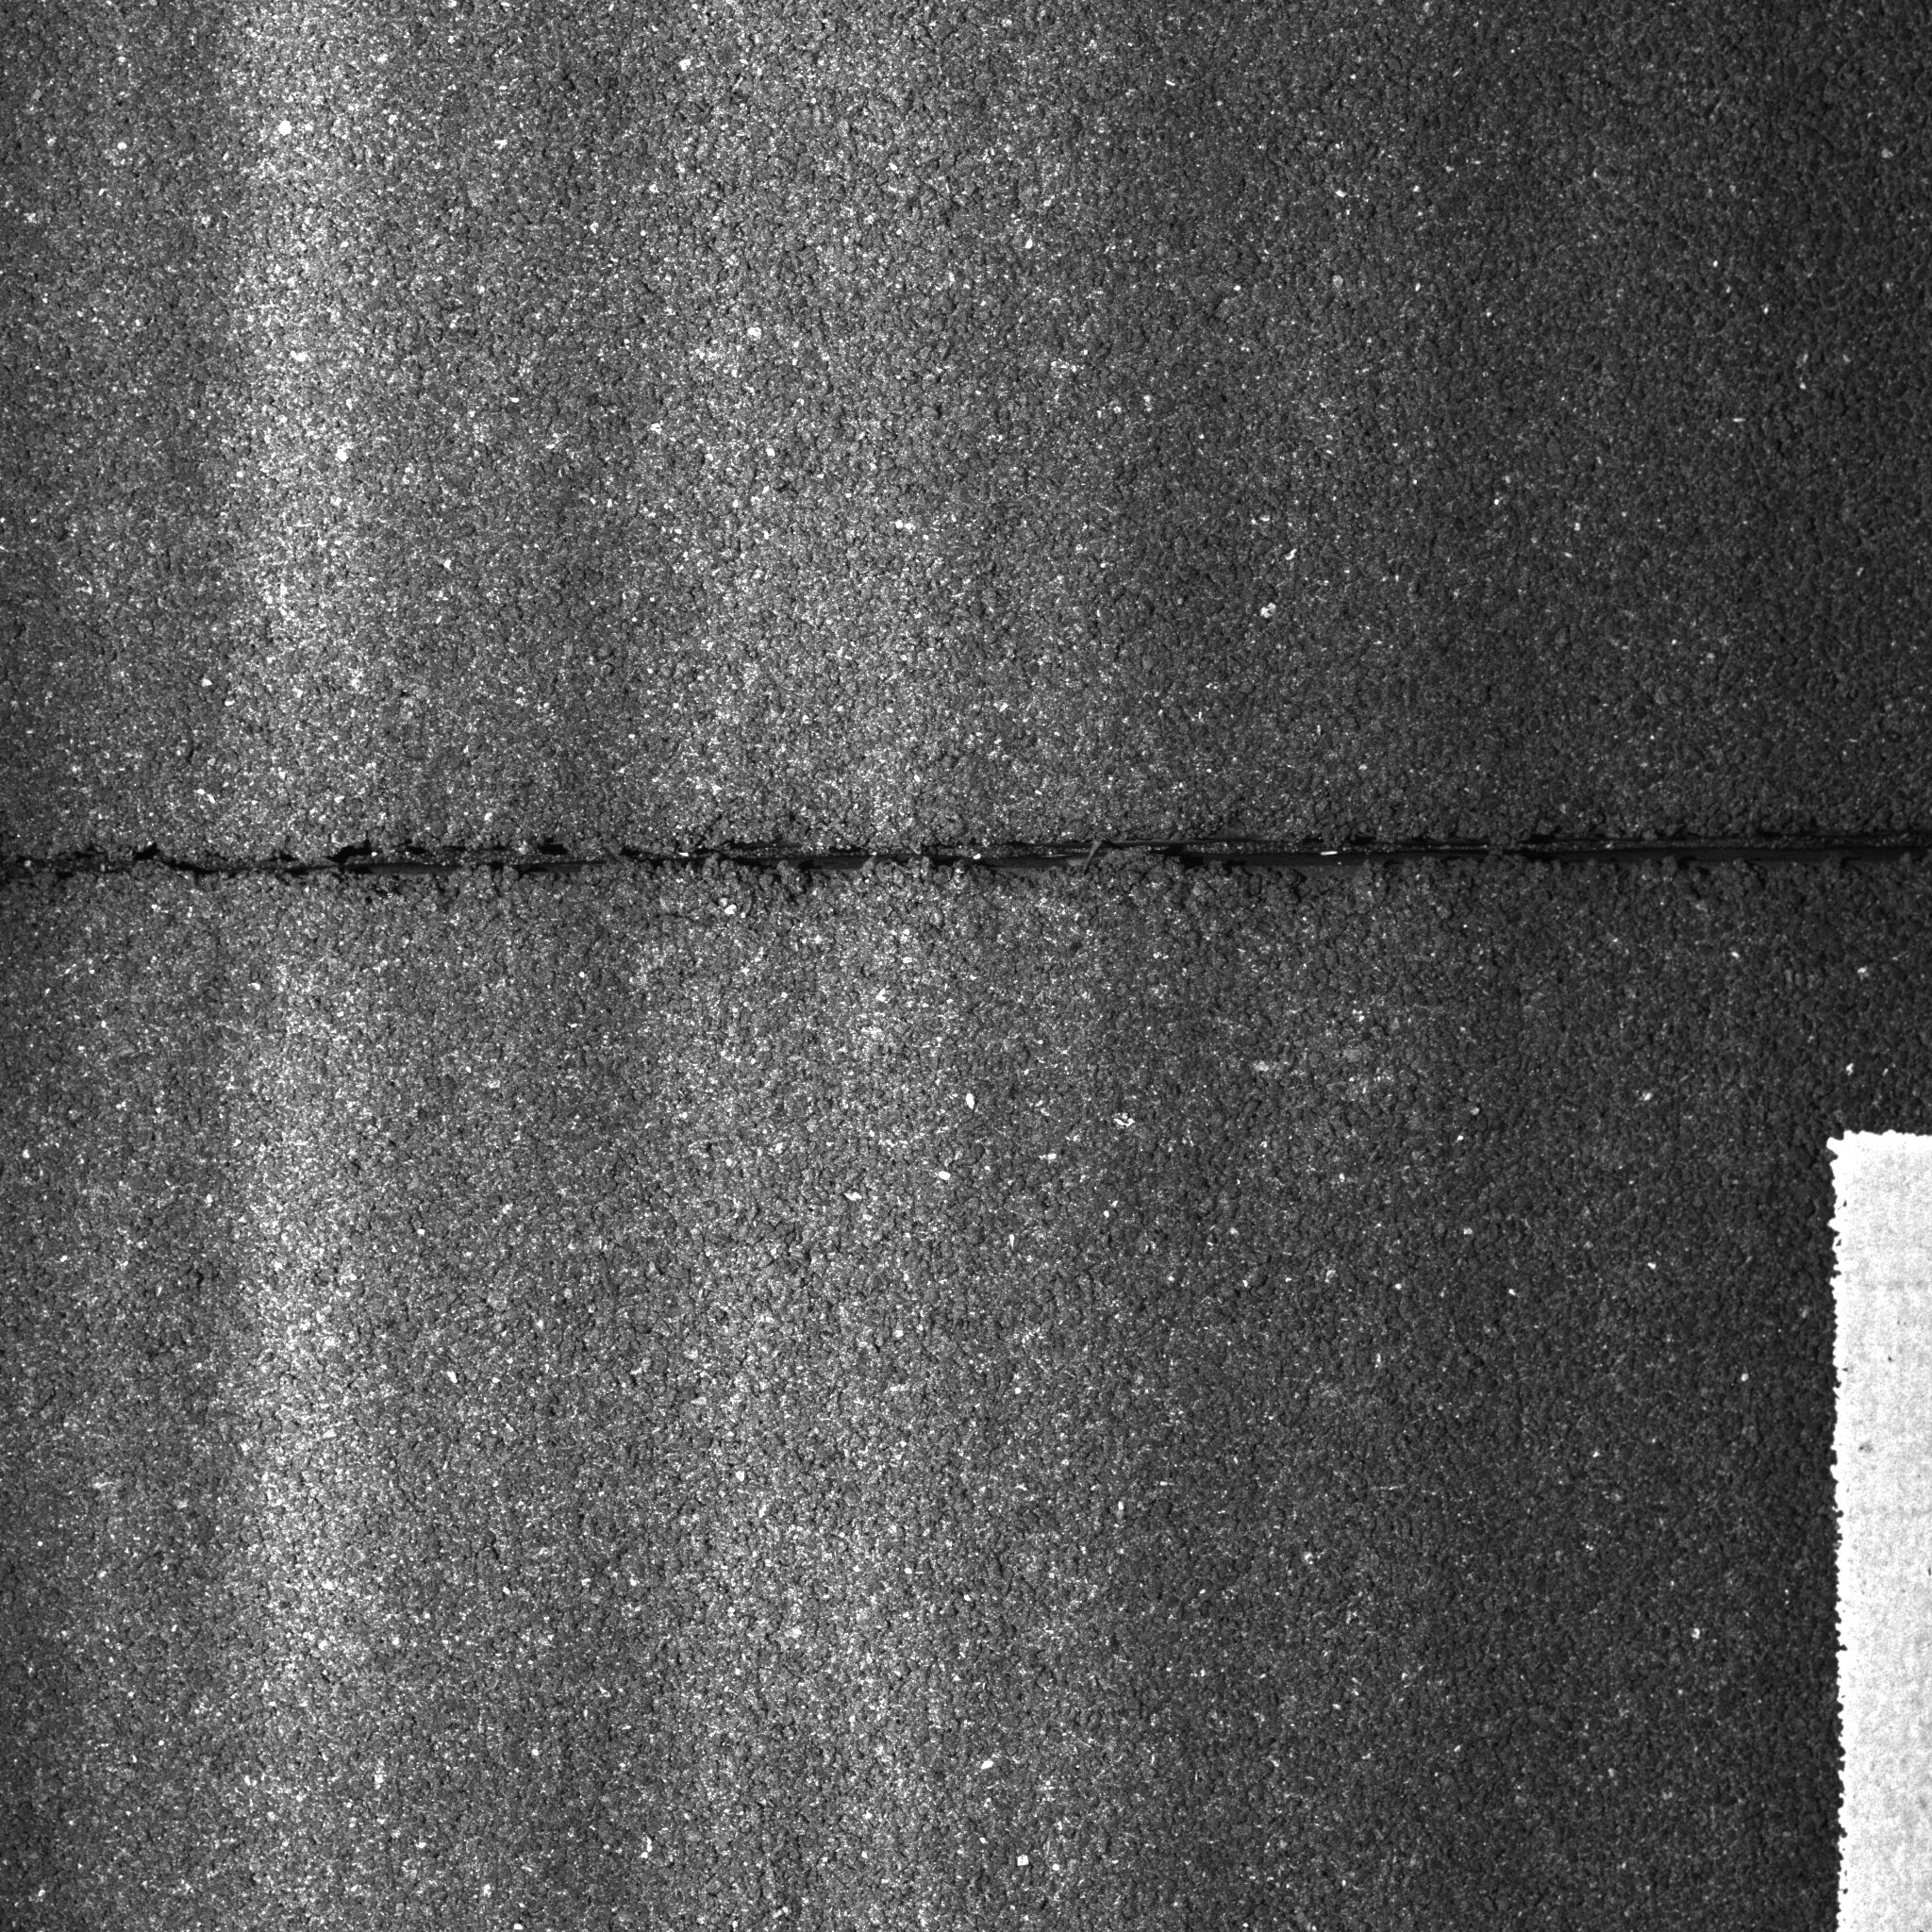transverse: (7, 777, 1930, 950)
